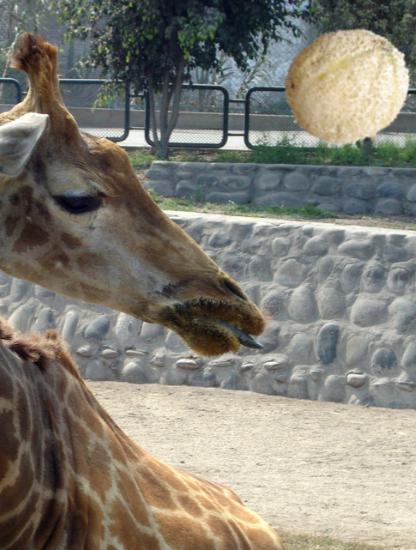Cantaloupe: (283, 21, 413, 151)
